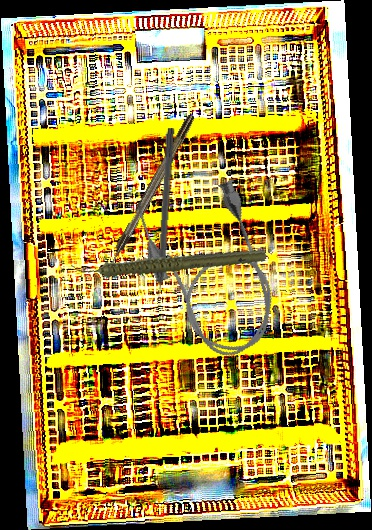Cannula: (126, 167, 293, 372)
Handpiece: (69, 218, 268, 304)
Hook Surgical: (98, 113, 198, 280)
Pusher: (152, 127, 175, 313)
